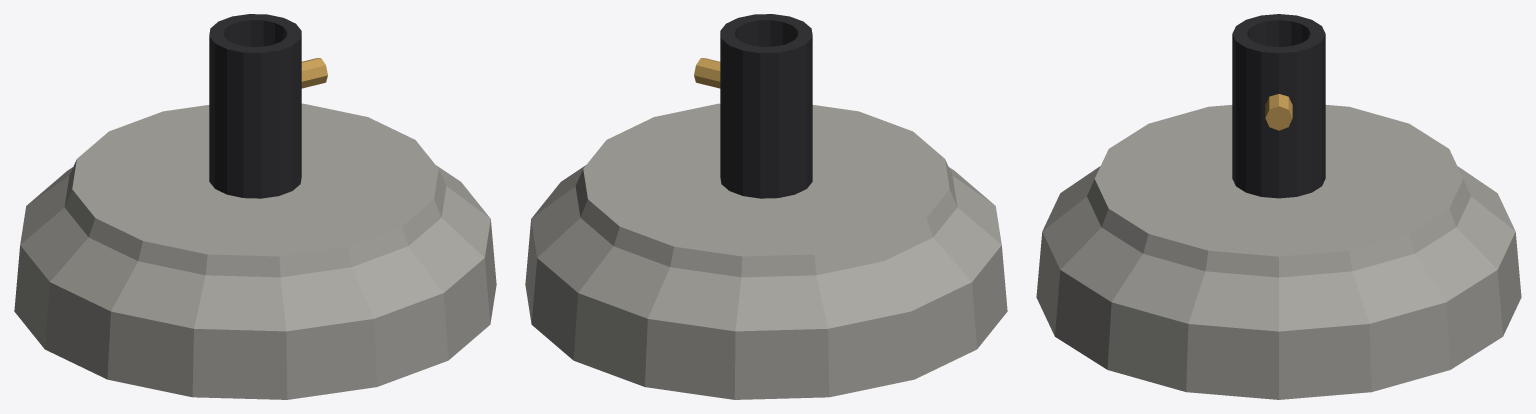
Rendered from FN_Parasol_Base.glb.
3 views of the same model, side by side, from view 1: azimuth 30°, elevation 25°; view 2: azimuth 150°, elevation 25°; view 3: azimuth 270°, elevation 25° (orthographic).
Visible parts, largest first — view 1: FN_Parasol_Base; view 2: FN_Parasol_Base; view 3: FN_Parasol_Base.
Boxes of the visible parts, x1,y1,x2,y2 form: FN_Parasol_Base: (14,14,496,399); FN_Parasol_Base: (525,14,1007,399); FN_Parasol_Base: (1036,14,1521,399).
Bounding box in the file's own units: 0.5 × 0.3 × 0.5.
Materials: 1 (1 with a texture image).
